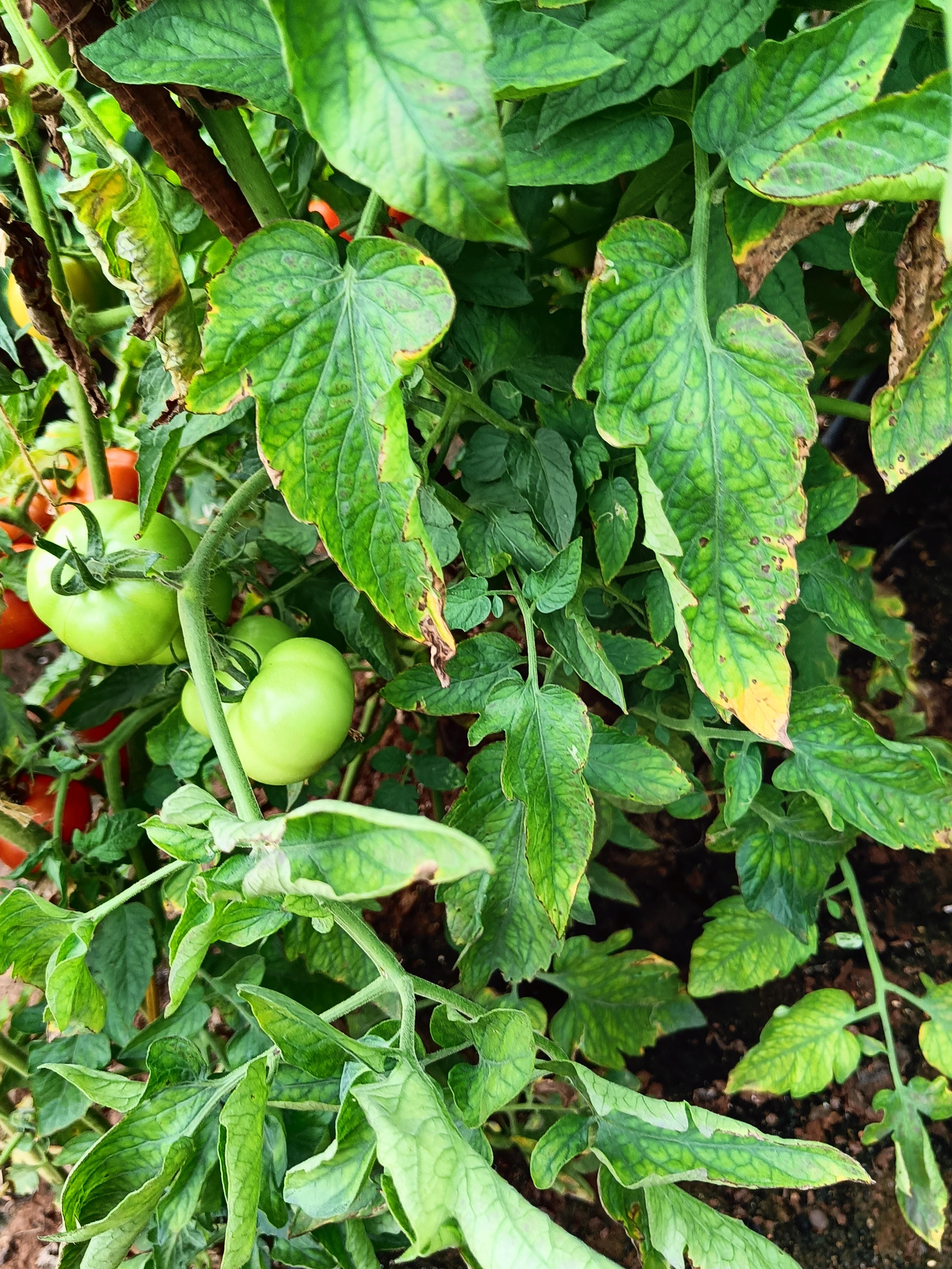Early Blight: (175, 213, 465, 700), (572, 214, 826, 754), (854, 195, 951, 501)
